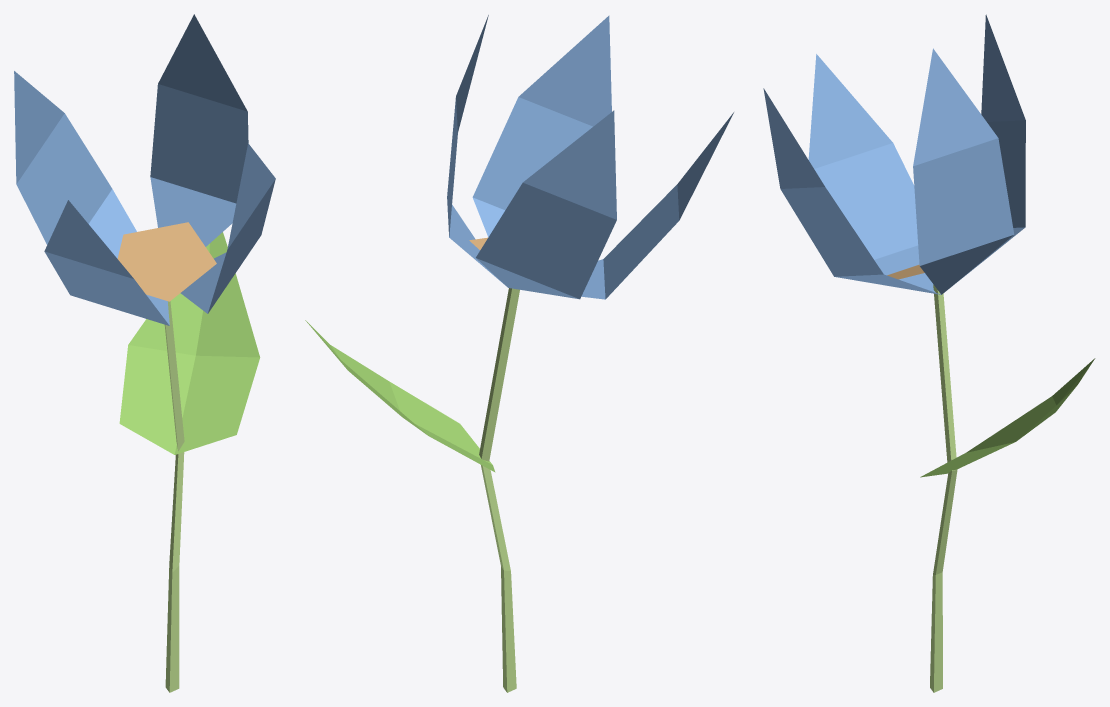
Rendered from Flower_a_TwoS_07.fbx.
The picture shows the model from 3 angles, left to right: view 1: azimuth 30°, elevation 25°; view 2: azimuth 150°, elevation 25°; view 3: azimuth 270°, elevation 25°; orthographic projection. The views are drawn at different scales.
Parts seen in each view (by area): view 1: Flower_a_TwoS_07; view 2: Flower_a_TwoS_07; view 3: Flower_a_TwoS_07.
Part boxes in pixels (x1,y1,x2,y2): Flower_a_TwoS_07: (14, 14, 275, 692); Flower_a_TwoS_07: (305, 15, 733, 692); Flower_a_TwoS_07: (763, 14, 1095, 692).
Size of the model in its own units: 32.37 by 72.22 by 33.36.
